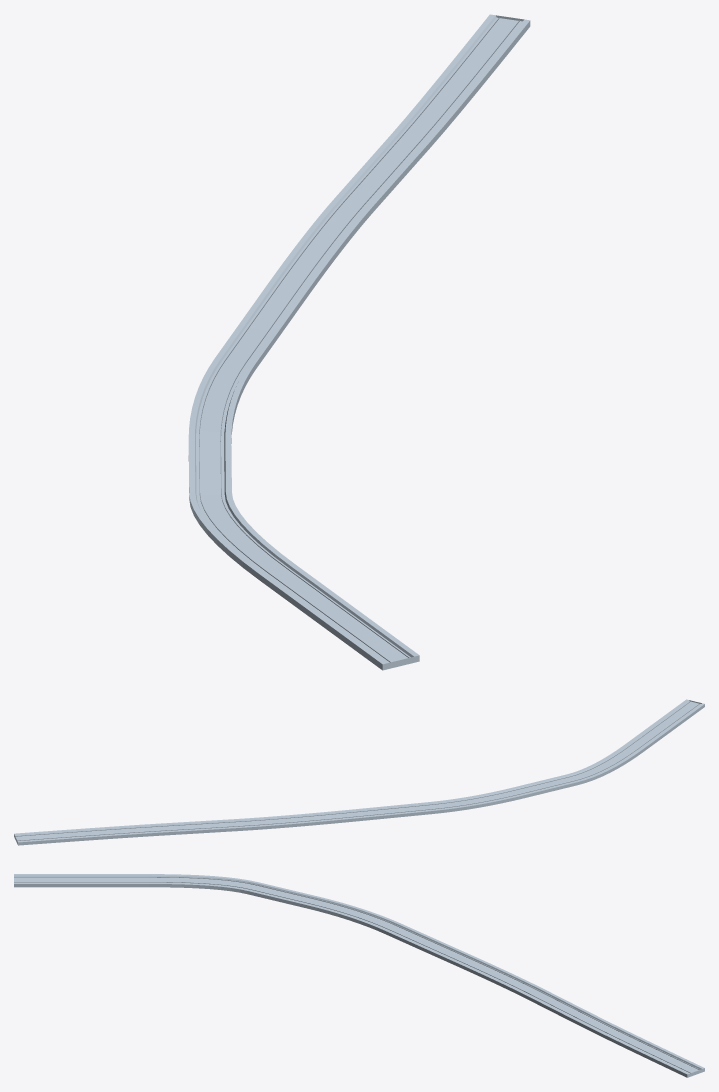
Rendered from Rail_0_0.fbx.
3 renders of one model, top to bottom at view 1: azimuth 30°, elevation 25°; view 2: azimuth 150°, elevation 25°; view 3: azimuth 270°, elevation 25°, orthographic. The views are drawn at different scales.
Parts seen in each view (by area): view 1: Rail_0_0; view 2: Rail_0_0; view 3: Rail_0_0.
Boxes of the visible parts, x1,y1,x2,y2 form: Rail_0_0: (188, 14, 530, 670); Rail_0_0: (14, 699, 704, 845); Rail_0_0: (14, 874, 704, 1077).
Bounding box in the file's own units: 24366 × 362 × 34946.
